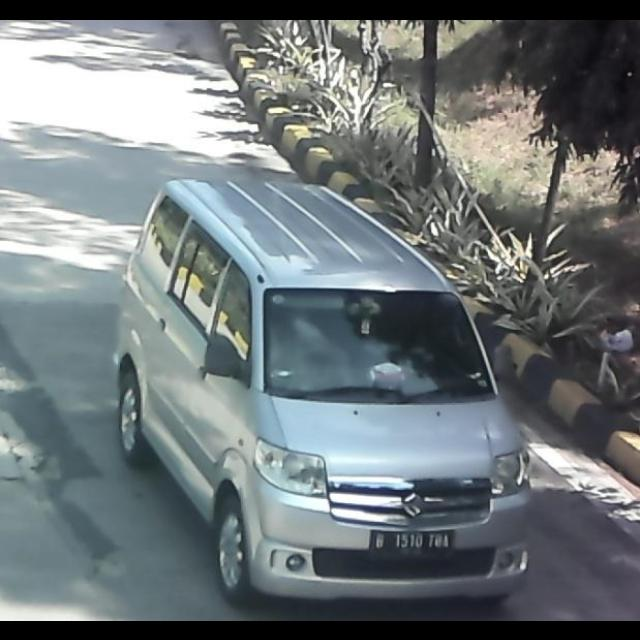plate: (366, 528, 462, 558)
